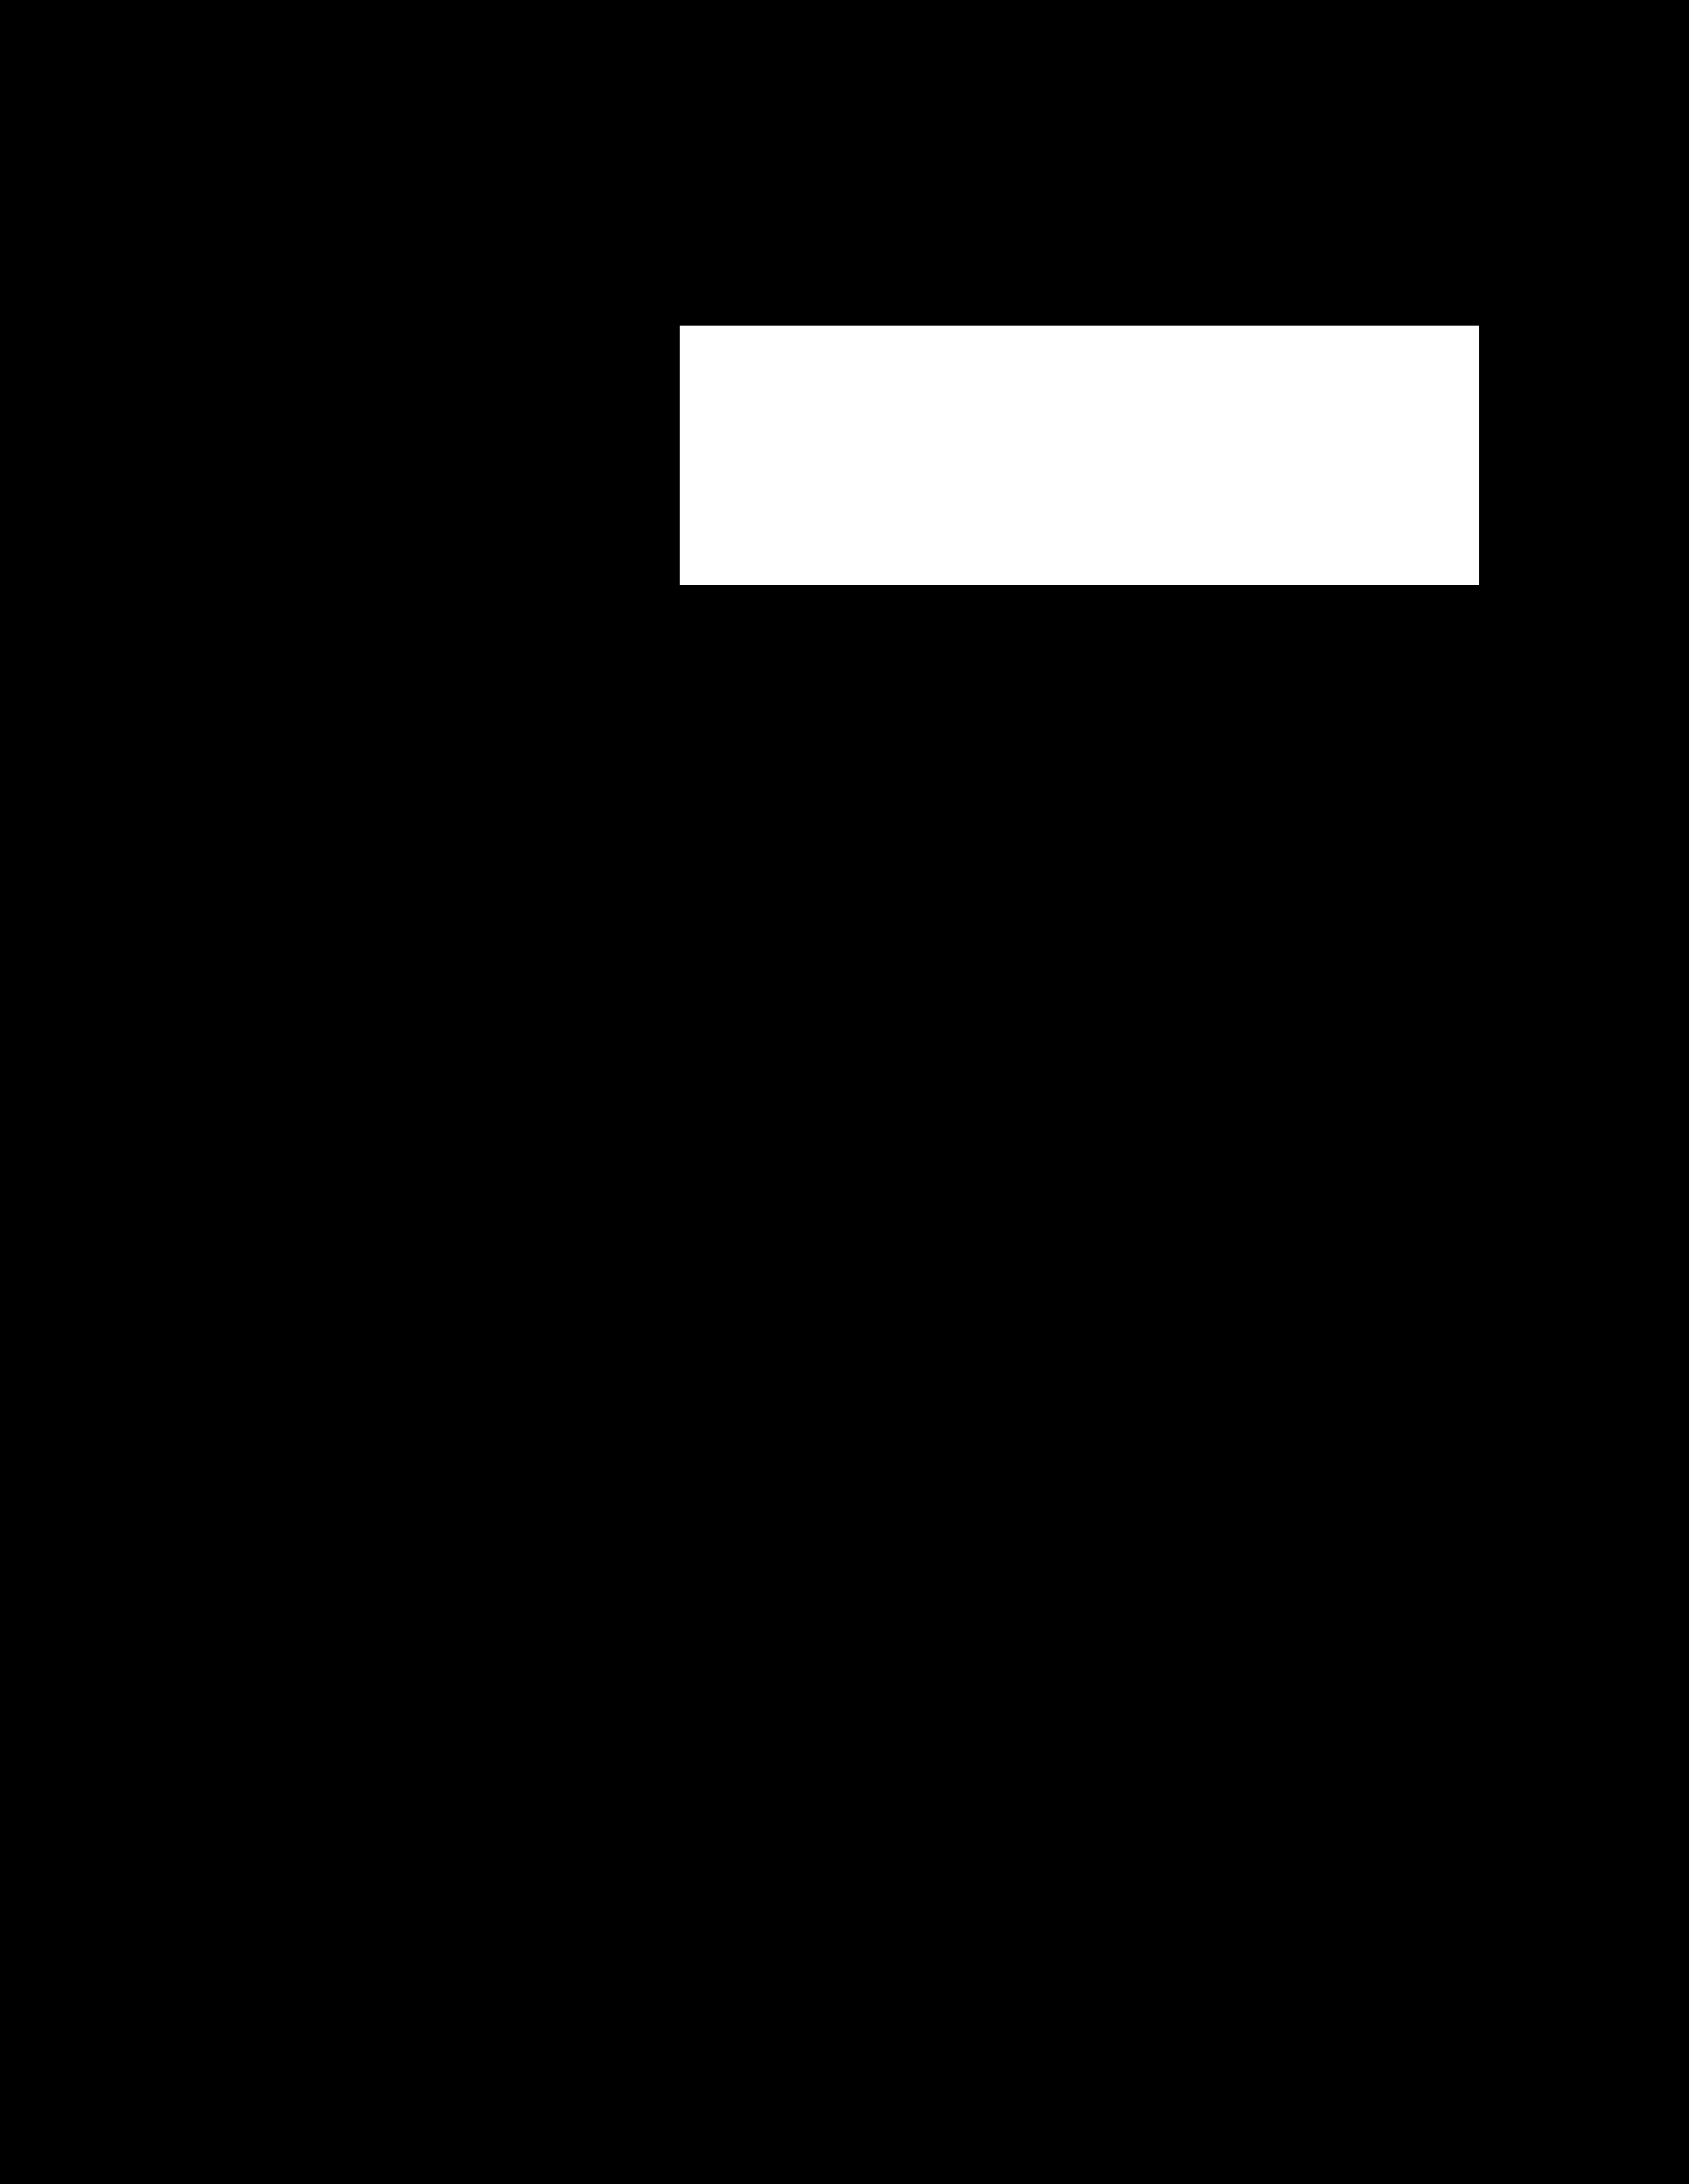table: (681, 326, 1478, 585)
